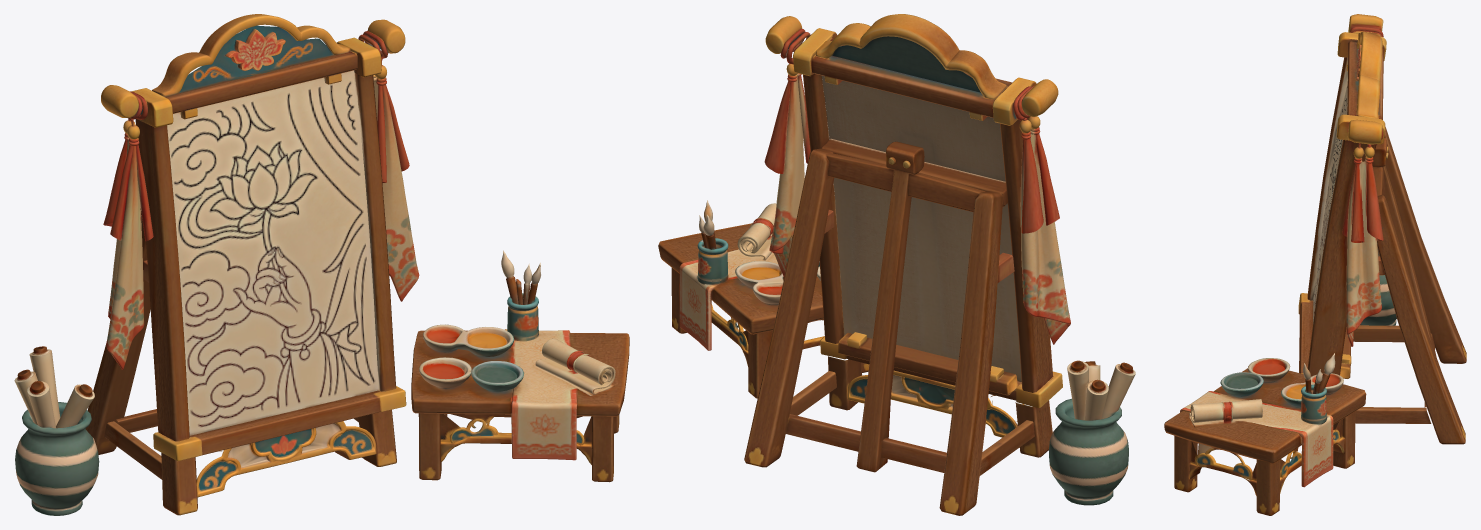
The model's file is coloring-station.glb.
The picture shows the model from 3 angles, left to right: view 1: azimuth 30°, elevation 25°; view 2: azimuth 150°, elevation 25°; view 3: azimuth 270°, elevation 25°; orthographic projection. The views are drawn at different scales.
Parts seen in each view (by area): view 1: a4ee4efa_bfc9_4826_ab33_3e43c61130e9; view 2: a4ee4efa_bfc9_4826_ab33_3e43c61130e9; view 3: a4ee4efa_bfc9_4826_ab33_3e43c61130e9.
Boxes of the visible parts, bbox=[...] form: a4ee4efa_bfc9_4826_ab33_3e43c61130e9: bbox=[14, 14, 629, 515]; a4ee4efa_bfc9_4826_ab33_3e43c61130e9: bbox=[658, 14, 1135, 515]; a4ee4efa_bfc9_4826_ab33_3e43c61130e9: bbox=[1164, 14, 1466, 515].
Bounding box in the file's own units: 0.9995 × 0.7817 × 0.5894.
1 material, 1 textured.
